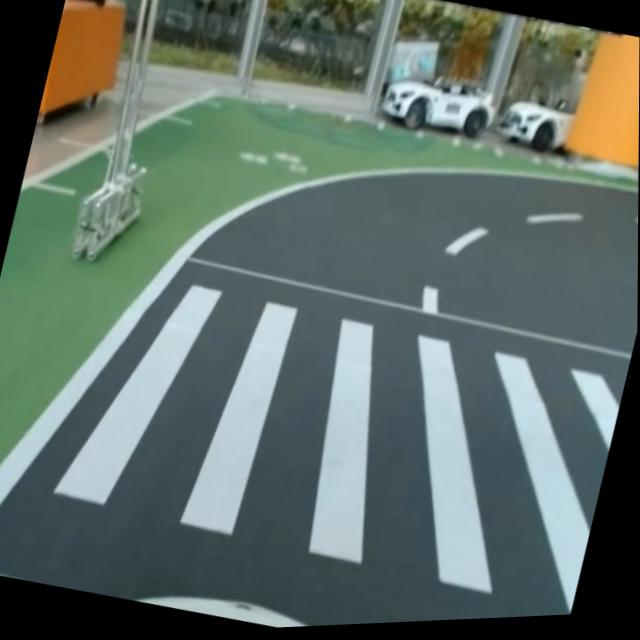traffic-light: (392, 0, 628, 50)
